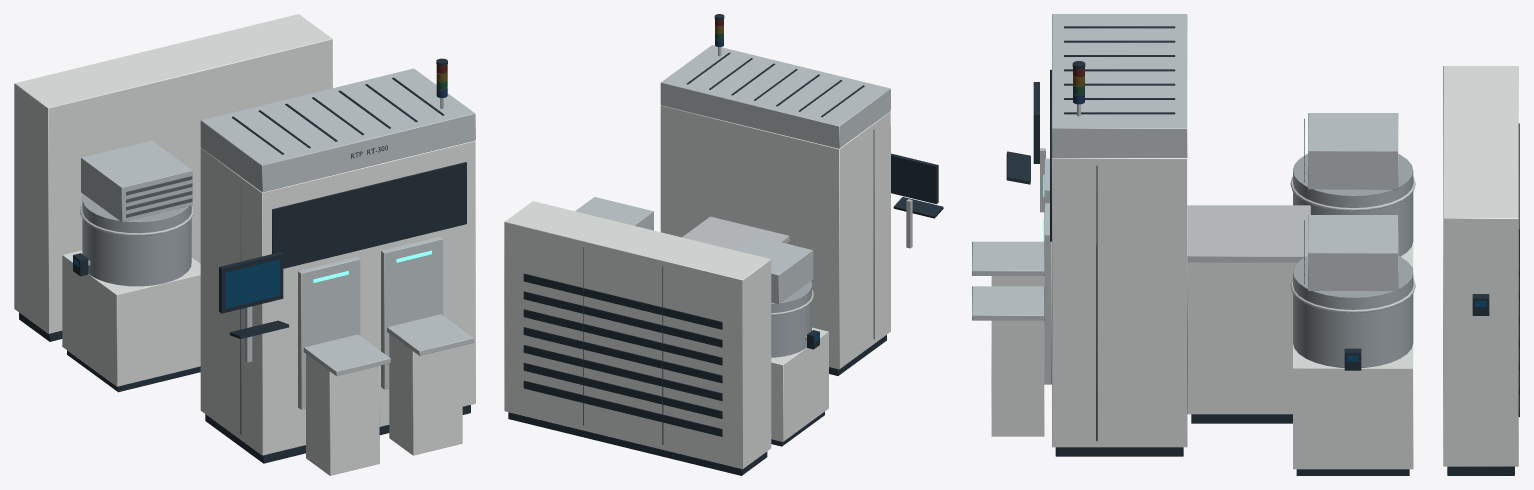
Rendered from fab1-tool-rtp.glb.
3 renders of one model, left to right at view 1: azimuth 30°, elevation 25°; view 2: azimuth 150°, elevation 25°; view 3: azimuth 270°, elevation 25°, orthographic. The views are drawn at different scales.
Parts seen in each view (by area): view 1: TOOL_RTP_EFEM, TOOL_RTP_PowerSupply, TOOL_RTP_LoadPorts, TOOL_RTP_PM1, TOOL_RTP_Operator, TOOL_HMI_Screen, TOOL_RTP_SignalTower; view 2: TOOL_RTP_PowerSupply, TOOL_RTP_EFEM, TOOL_RTP_PM1, TOOL_RTP_Operator, TOOL_RTP_Transfer, TOOL_RTP_PM2; view 3: TOOL_RTP_EFEM, TOOL_RTP_PowerSupply, TOOL_RTP_PM2, TOOL_RTP_Transfer, TOOL_RTP_LoadPorts, TOOL_RTP_PM1, TOOL_RTP_Operator, TOOL_RTP_SignalTower.
Part boxes in pixels (x1,y1,x2,y2): TOOL_RTP_EFEM: (200, 68, 475, 463); TOOL_RTP_PowerSupply: (14, 14, 332, 341); TOOL_RTP_LoadPorts: (298, 236, 473, 475); TOOL_RTP_PM1: (62, 140, 200, 392); TOOL_RTP_Operator: (219, 252, 289, 362); TOOL_HMI_Screen: (225, 259, 279, 308); TOOL_RTP_SignalTower: (436, 58, 447, 108); TOOL_RTP_PowerSupply: (504, 201, 771, 475); TOOL_RTP_EFEM: (660, 45, 890, 375); TOOL_RTP_PM1: (734, 236, 828, 446); TOOL_RTP_Operator: (891, 153, 943, 248); TOOL_RTP_Transfer: (682, 216, 789, 249); TOOL_RTP_PM2: (575, 197, 653, 230); TOOL_RTP_EFEM: (1050, 14, 1187, 456); TOOL_RTP_PowerSupply: (1443, 66, 1519, 475); TOOL_RTP_PM2: (1290, 215, 1415, 475); TOOL_RTP_Transfer: (1187, 205, 1310, 423); TOOL_RTP_LoadPorts: (972, 158, 1051, 436); TOOL_RTP_PM1: (1290, 113, 1415, 271); TOOL_RTP_Operator: (1006, 82, 1045, 212); TOOL_RTP_SignalTower: (1072, 61, 1085, 116).
Bounding box in the file's own units: 2.63 × 2.81 × 3.64.
3 materials, 1 textured.
